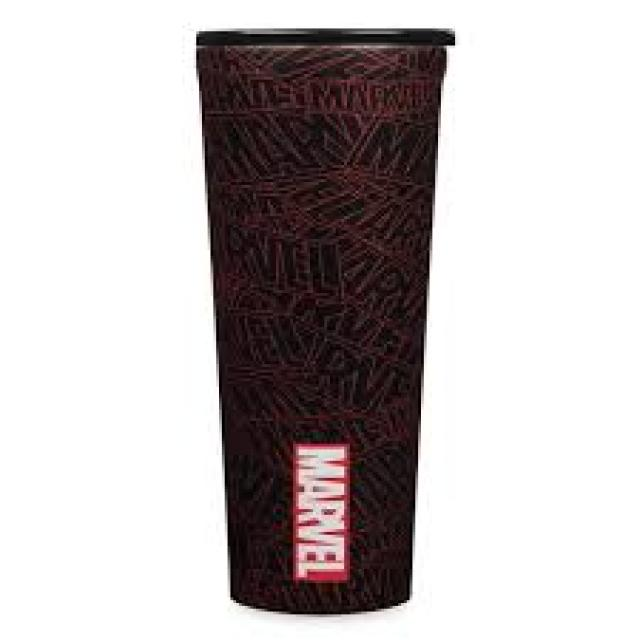bottle: (197, 27, 456, 613)
